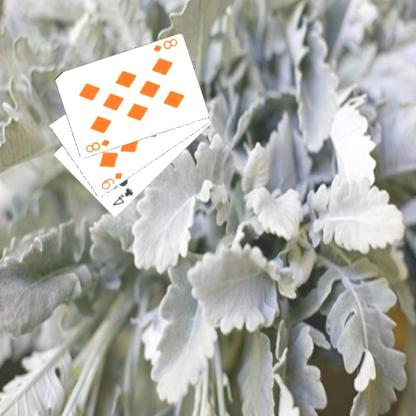4C: (110, 186, 135, 208)
8D: (82, 137, 112, 154), (150, 36, 178, 53)
9D: (98, 170, 124, 191)
